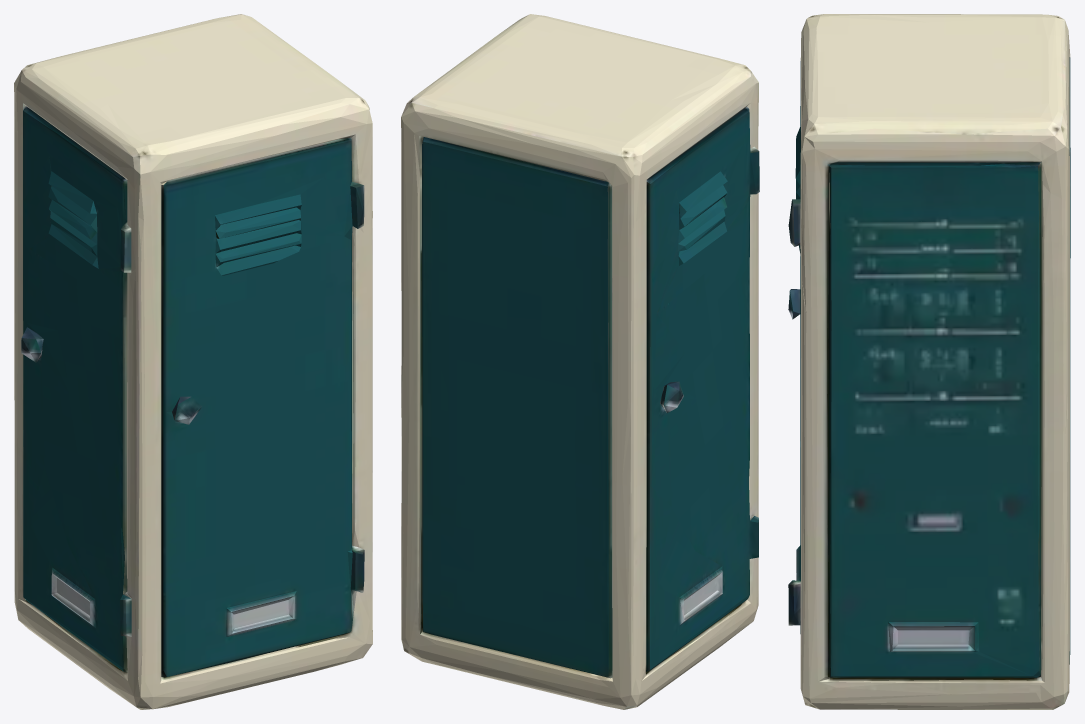
File: locker.glb
The picture shows the model from 3 angles, left to right: view 1: azimuth 30°, elevation 25°; view 2: azimuth 150°, elevation 25°; view 3: azimuth 270°, elevation 25°; orthographic projection. The views are drawn at different scales.
Visible parts, largest first — view 1: figure; view 2: figure; view 3: figure.
Part boxes in pixels (x1,y1,x2,y2): figure: [14, 14, 372, 709]; figure: [401, 14, 759, 709]; figure: [788, 14, 1070, 709].
Bounding box in the file's own units: 0.4794 × 1 × 0.4344.
1 material, 1 textured.
